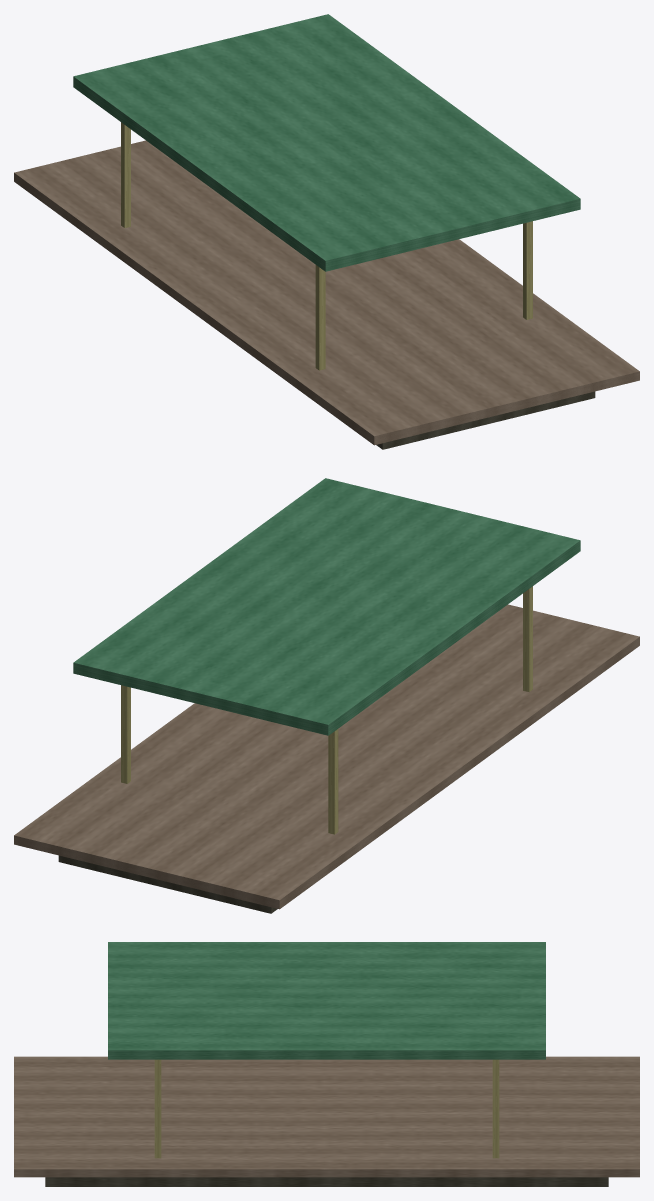
File: bung-raft-3-green-lod.glb
3 renders of one model, top to bottom at view 1: azimuth 30°, elevation 25°; view 2: azimuth 150°, elevation 25°; view 3: azimuth 270°, elevation 25°, orthographic. The views are drawn at different scales.
Parts seen in each view (by area): view 1: bung-raft-3-green-lod; view 2: bung-raft-3-green-lod; view 3: bung-raft-3-green-lod.
Boxes of the visible parts, x1=… form: bung-raft-3-green-lod: x1=14, y1=14, x2=639, y2=449; bung-raft-3-green-lod: x1=14, y1=478, x2=639, y2=913; bung-raft-3-green-lod: x1=14, y1=942, x2=639, y2=1186.
Size of the model in its own units: 4.6 by 2.78 by 10.8.
1 material, 1 textured.
